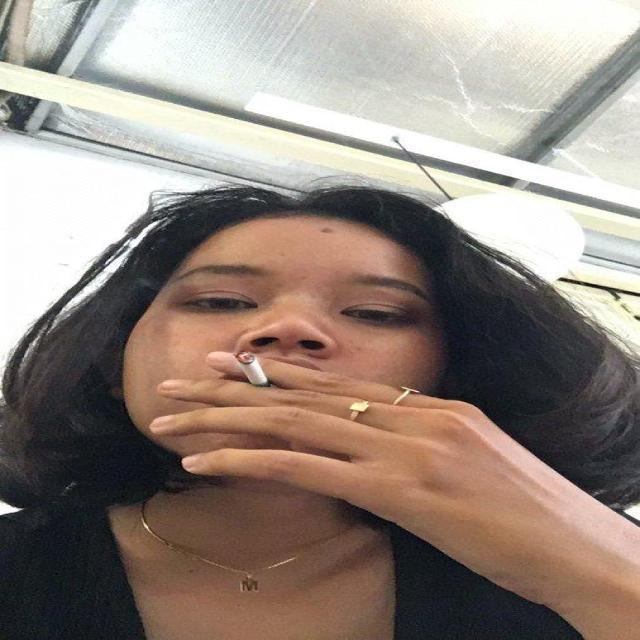rokok: (235, 344, 269, 388)
